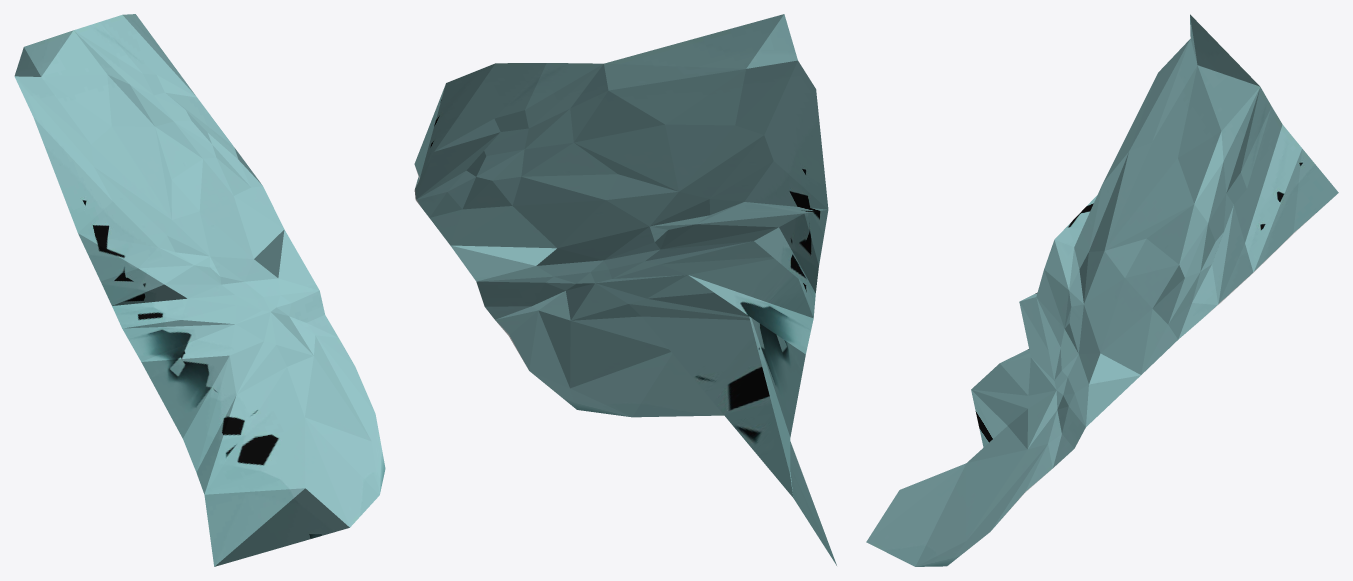
File: scarf.glb
3 views of the same model, side by side, from view 1: azimuth 30°, elevation 25°; view 2: azimuth 150°, elevation 25°; view 3: azimuth 270°, elevation 25° (orthographic). The views are drawn at different scales.
Parts seen in each view (by area): view 1: scarf; view 2: scarf; view 3: scarf.
Part boxes in pixels (x1,y1,x2,y2): scarf: (14, 14, 385, 566); scarf: (414, 14, 836, 565); scarf: (866, 14, 1338, 566).
Bounding box in the file's own units: 4.32 × 7.07 × 6.23.
Materials: 1 (1 with a texture image).
